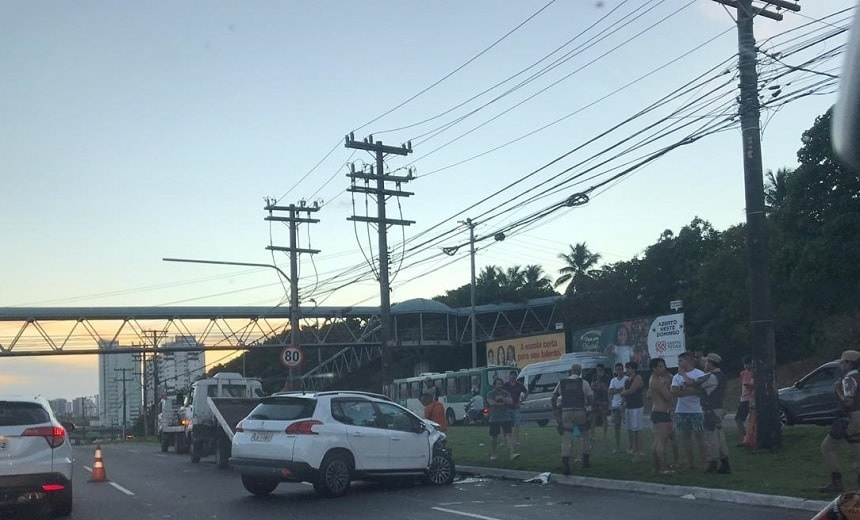Carro: (228, 389, 461, 494), (1, 391, 87, 518), (765, 356, 860, 425)
